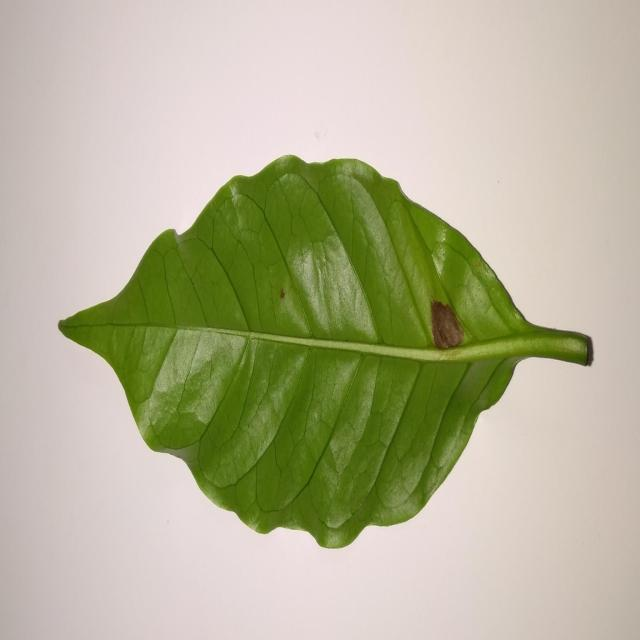Enfermedad-Antracnosis: (57, 156, 594, 552)
